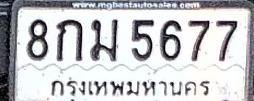5: (131, 19, 154, 61)
6: (160, 19, 182, 60)
7: (215, 20, 238, 62), (188, 19, 210, 61)
8: (26, 18, 48, 60)
A01: (56, 18, 83, 61)
A33: (90, 18, 118, 61)
BKK: (46, 73, 215, 101)
